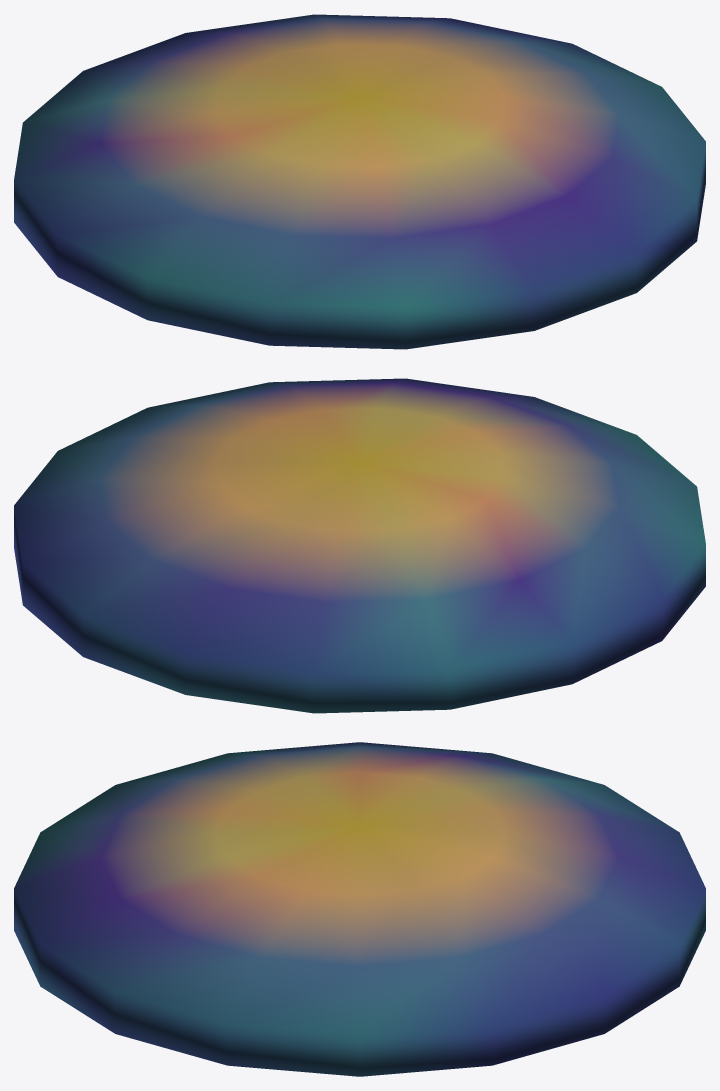
The model's file is space-galaxies-galaxy_v10.glb.
3 views of the same model, one above another, from view 1: azimuth 30°, elevation 25°; view 2: azimuth 150°, elevation 25°; view 3: azimuth 270°, elevation 25° (orthographic).
Visible parts, largest first — view 1: Galaxy_v10; view 2: Galaxy_v10; view 3: Galaxy_v10.
Boxes of the visible parts, x1=… form: Galaxy_v10: x1=14, y1=14, x2=705, y2=349; Galaxy_v10: x1=14, y1=378, x2=705, y2=713; Galaxy_v10: x1=14, y1=742, x2=705, y2=1076.
Bounding box in the file's own units: 0.5 × 0.1345 × 0.5.
